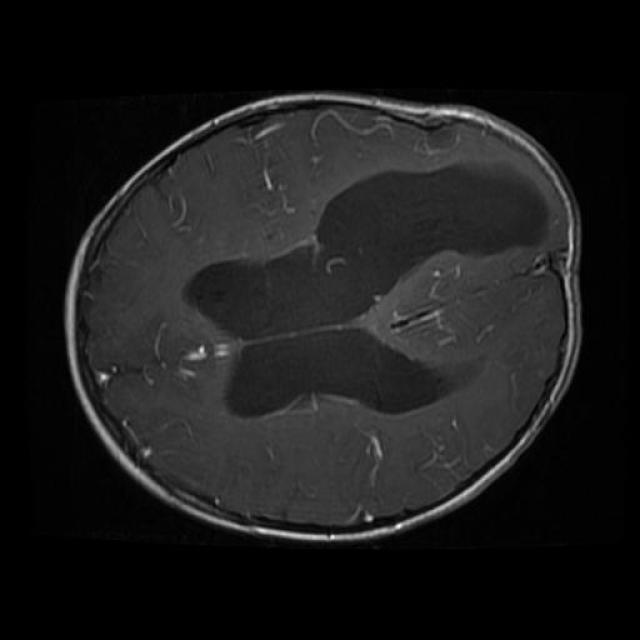Glioma: (345, 164, 547, 292)
